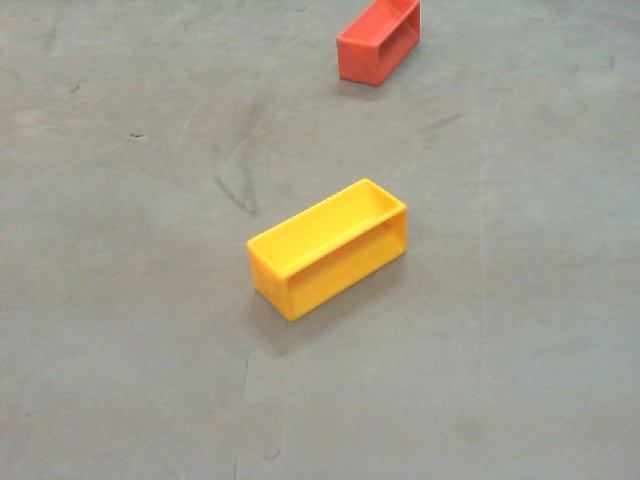RedSample: (336, 1, 424, 88)
YellowSample: (245, 175, 407, 324)
